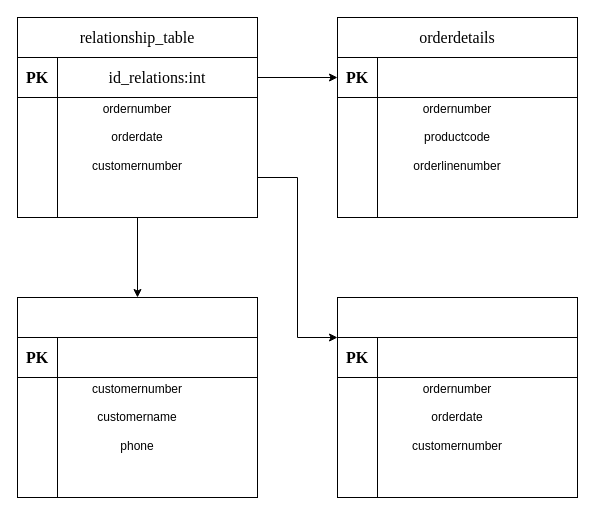
The diagram is 595 pixels wide and 515 high, and some of its shapes have lost their labels. Here are the shapes that lost their labels. From the top down, the centre of each, then its label:
pixel 477 77: id_details:int
pixel 137 317: customer
pixel 457 317: orders
pixel 157 357: id_customer:int
pixel 477 357: id_orders:int
